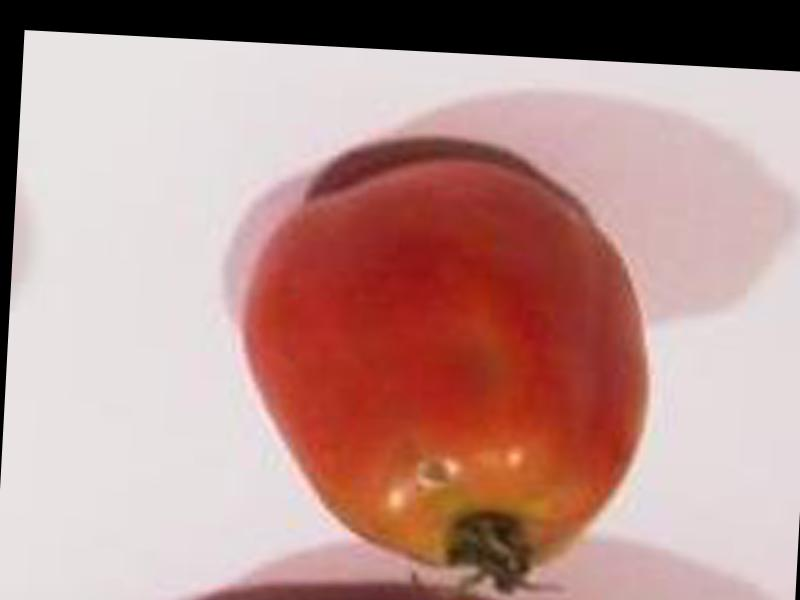Tomato: (231, 157, 657, 583)
